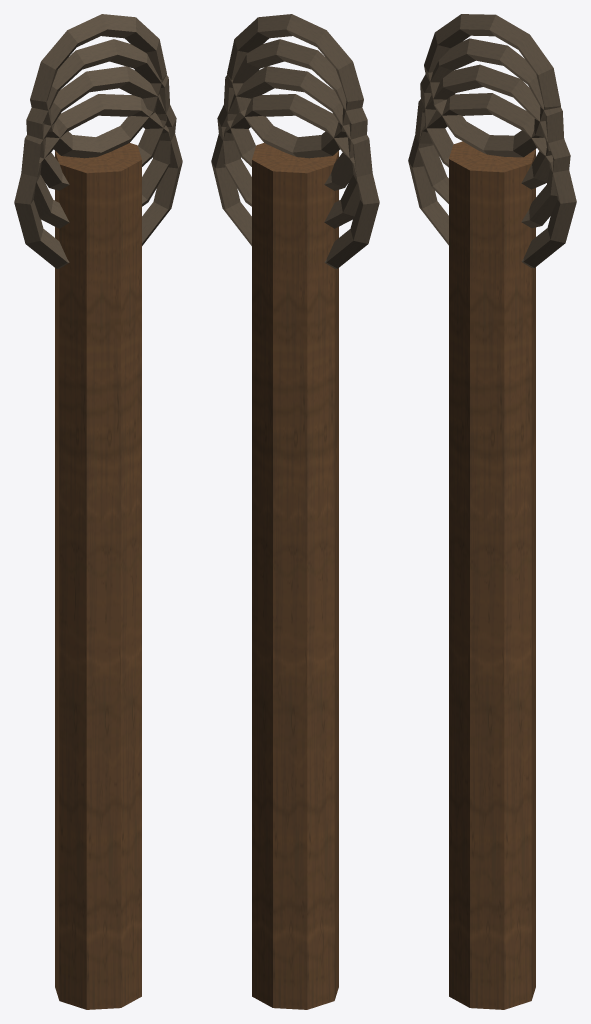
The model's file is pr-009_torch__unlit.obj.
3 renders of one model, left to right at view 1: azimuth 30°, elevation 25°; view 2: azimuth 150°, elevation 25°; view 3: azimuth 330°, elevation 25°, orthographic.
Visible parts, largest first — view 1: pr-009_torch__unlit; view 2: pr-009_torch__unlit; view 3: pr-009_torch__unlit.
Part boxes in pixels (bbox=[...]): pr-009_torch__unlit: bbox=[14, 14, 182, 1009]; pr-009_torch__unlit: bbox=[211, 14, 379, 1009]; pr-009_torch__unlit: bbox=[408, 14, 576, 1009].
Size of the model in its own units: 0.194 by 1.07 by 0.09.
Materials: 2 (2 with a texture image).
